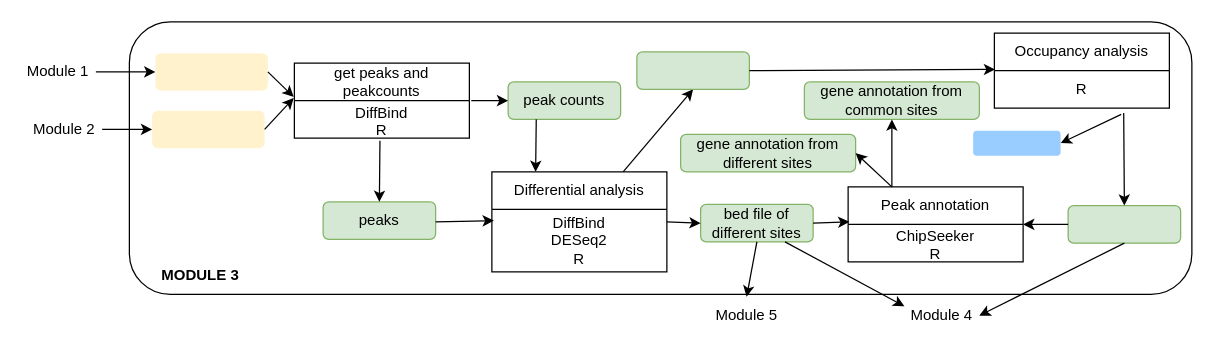
Image size: 1215x356. Some labels were removed from this diagram. The centre of each missing label's shape, as x and y in pixels:
analyze contrast model: [692,70]
bed file of common sites: [1124,223]
filter bam files: [211,71]
narrowpeak files: [208,129]
venn plot: [1016,142]
